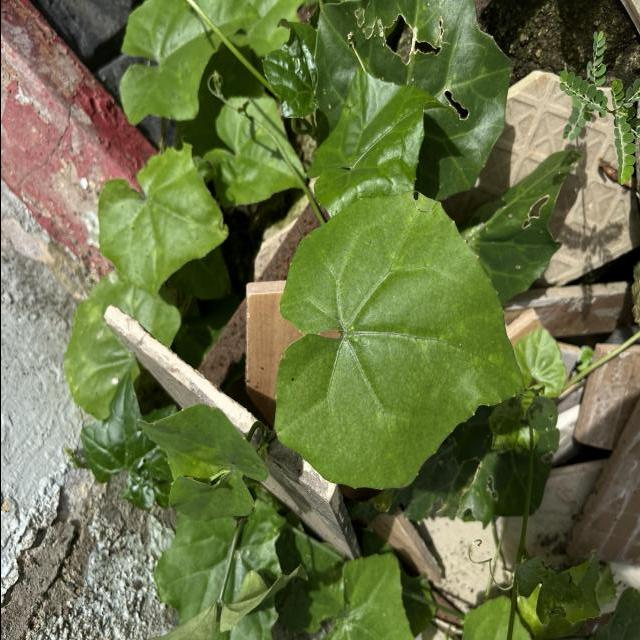Coccinia grandis: (272, 187, 526, 492)
